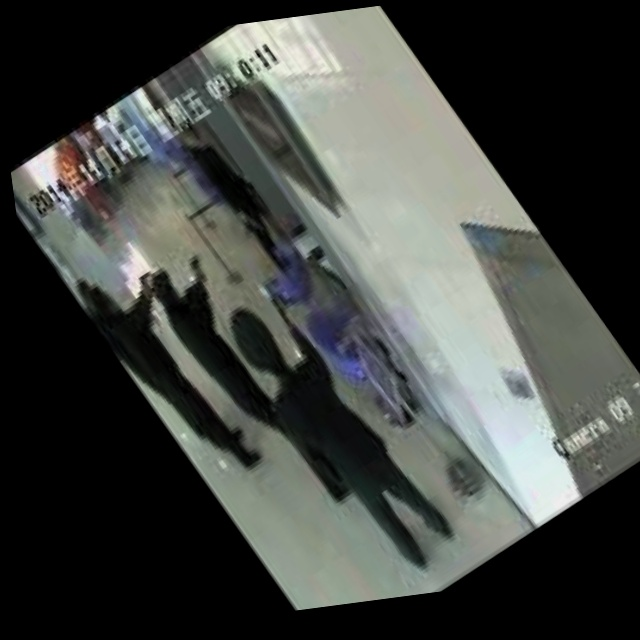gun: (251, 279, 299, 336), (178, 245, 213, 285), (125, 261, 156, 293)
